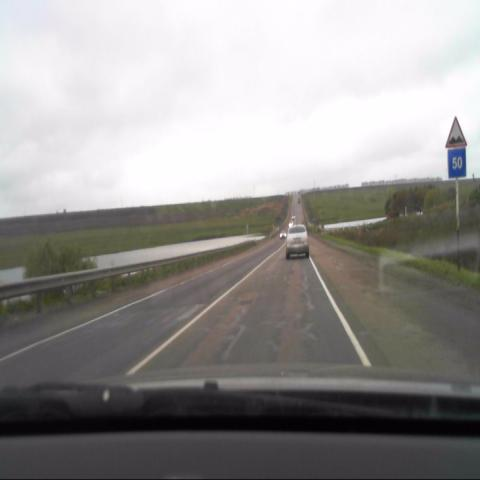6_2: (447, 148, 467, 179)
